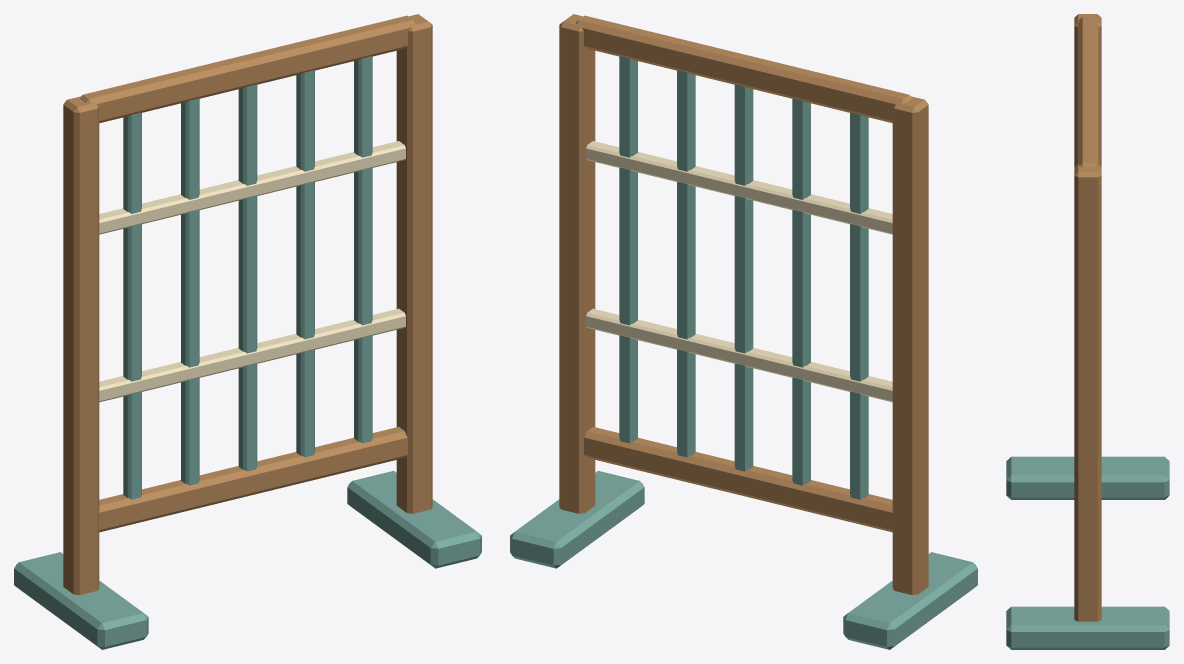
3 renders of one model, left to right at view 1: azimuth 30°, elevation 25°; view 2: azimuth 150°, elevation 25°; view 3: azimuth 270°, elevation 25°, orthographic. The views are drawn at different scales.
Visible parts, largest first — view 1: dining-lattice-divider-01; view 2: dining-lattice-divider-01; view 3: dining-lattice-divider-01.
Boxes of the visible parts, box(x1,y1,x2,y2) form: dining-lattice-divider-01: box(14, 14, 481, 649); dining-lattice-divider-01: box(510, 14, 977, 649); dining-lattice-divider-01: box(1006, 14, 1169, 649).
Size of the model in its own units: 1.2 by 1.54 by 0.48.
